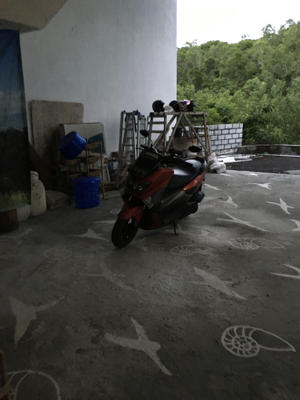moto: (110, 140, 207, 245)
